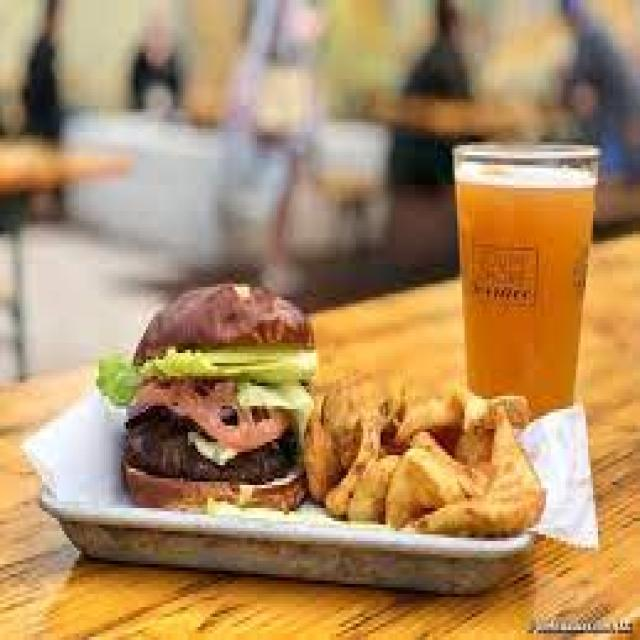Burger: (138, 284, 320, 530)
